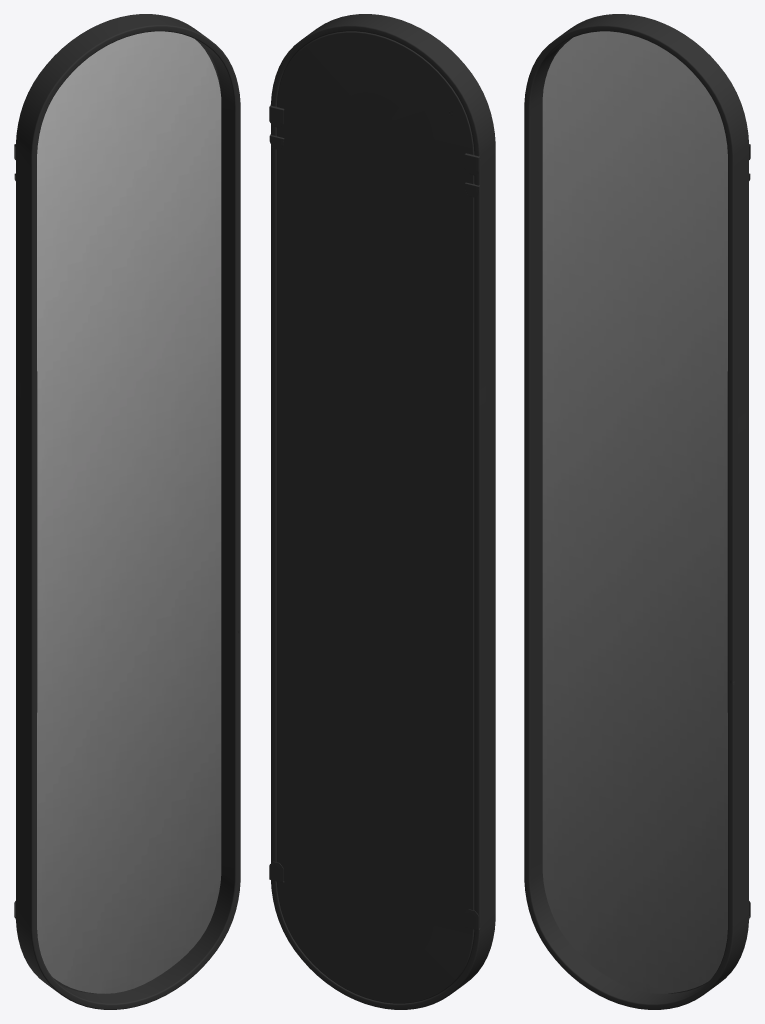
Rendered from abo-B084HV7BC3.glb.
3 views of the same model, side by side, from view 1: azimuth 30°, elevation 25°; view 2: azimuth 150°, elevation 25°; view 3: azimuth 330°, elevation 25° (orthographic).
Size of the model in its own units: 0.222 by 0.991 by 0.032.
Materials: 1 (1 with a texture image).
